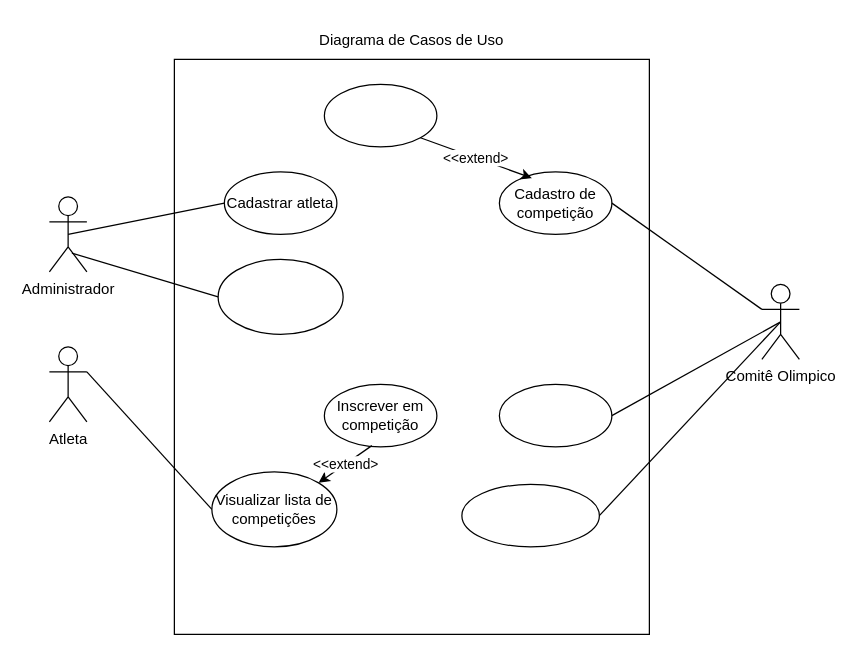
Image size: 856x656. Some labels were removed from this diagram. The box of each missing label's shape, as (x1, y1, x2, y2) in pixels:
Aprovar inscrição de atletas: (323, 83, 437, 147)
Cadastrar comite olimpico: (217, 258, 343, 334)
Gerar relatorios de medalas: (461, 483, 599, 547)
Registrar resultados: (498, 383, 612, 447)
